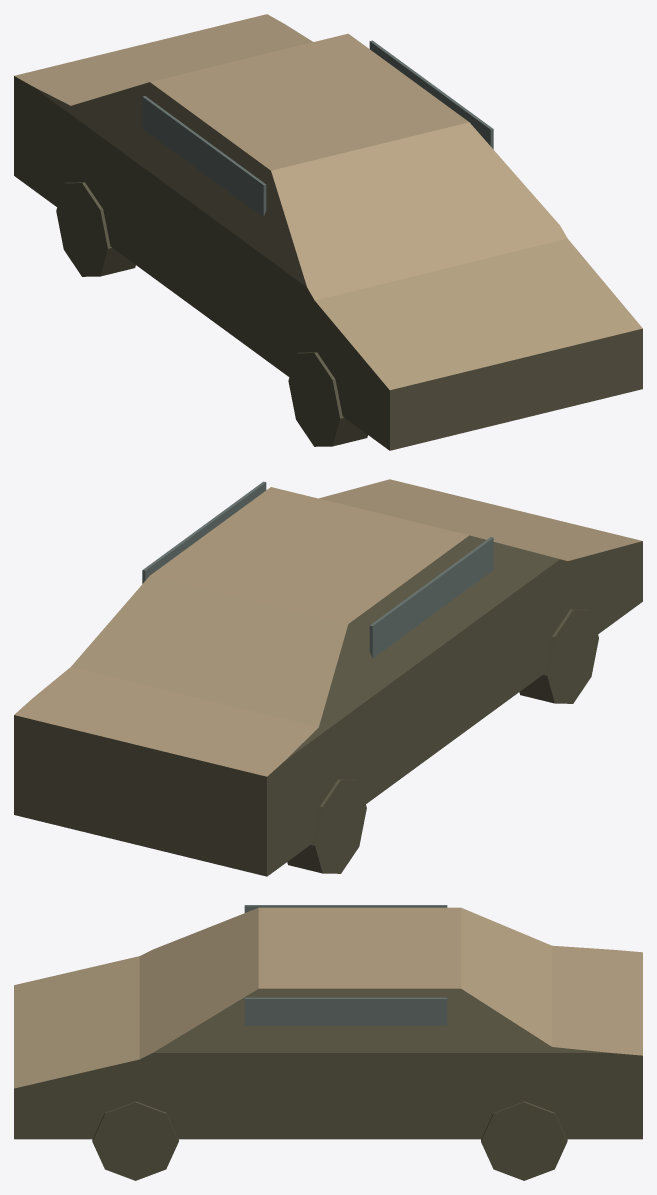
File: SM_CocheCivil_Berlina_v0_LOD1.fbx
3 renders of one model, top to bottom at view 1: azimuth 30°, elevation 25°; view 2: azimuth 150°, elevation 25°; view 3: azimuth 270°, elevation 25°, orthographic. The views are drawn at different scales.
Parts seen in each view (by area): view 1: SM_coche_civil_v5_LOD1; view 2: SM_coche_civil_v5_LOD1; view 3: SM_coche_civil_v5_LOD1.
Part boxes in pixels (left/top/right/bottom): SM_coche_civil_v5_LOD1: left=14, top=14, right=642, bottom=450; SM_coche_civil_v5_LOD1: left=14, top=479, right=642, bottom=876; SM_coche_civil_v5_LOD1: left=14, top=905, right=642, bottom=1180.
Size of the model in its own units: 1.79 by 1.42 by 4.5.
